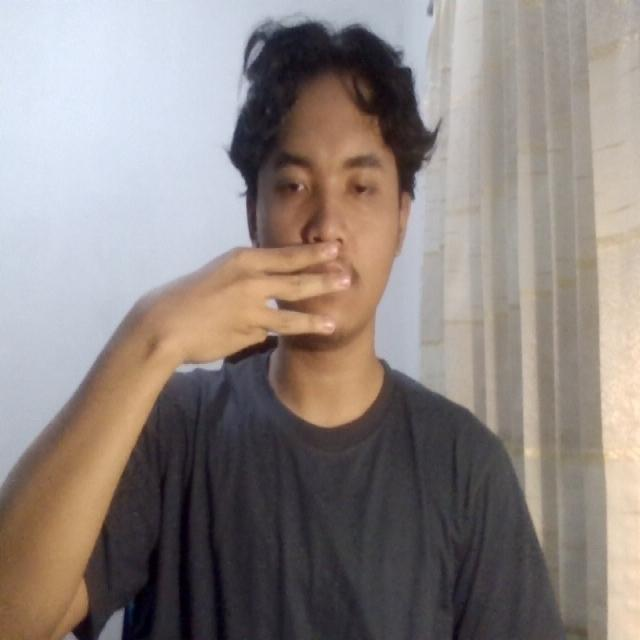E: (167, 231, 366, 384)
